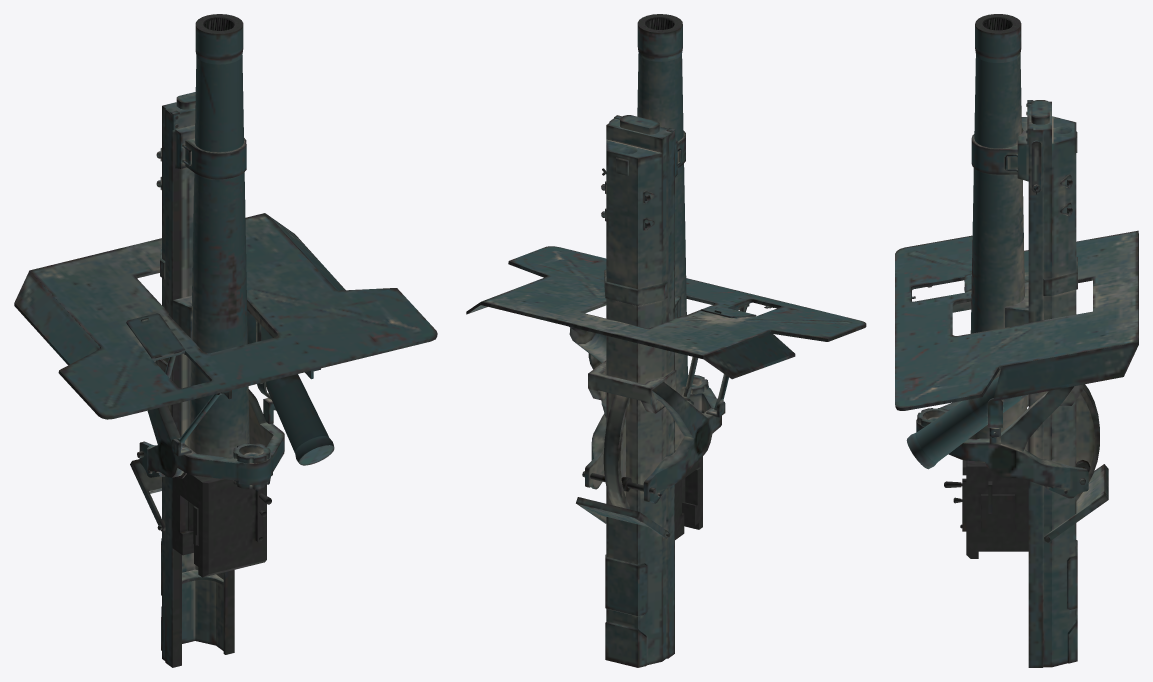
Rendered from Gun_02.glb.
3 views of the same model, side by side, from view 1: azimuth 30°, elevation 25°; view 2: azimuth 150°, elevation 25°; view 3: azimuth 270°, elevation 25° (orthographic). The views are drawn at different scales.
Visible parts, largest first — view 1: set_0_group_0, set_0_group_1; view 2: set_0_group_0, set_0_group_1; view 3: set_0_group_0, set_0_group_1.
Boxes of the visible parts, <box> form: set_0_group_0: <box>14,14,437,667</box>; set_0_group_1: <box>247,310,334,465</box>; set_0_group_0: <box>466,14,866,667</box>; set_0_group_1: <box>569,326,606,369</box>; set_0_group_0: <box>895,14,1138,667</box>; set_0_group_1: <box>906,377,1026,469</box>.
Bounding box in the file's own units: 1.38 × 2.53 × 0.8873.
2 materials, 2 textured.
